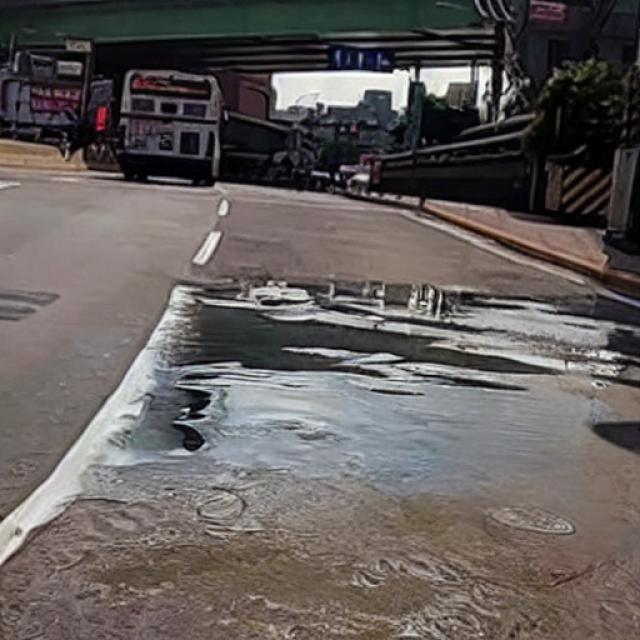puddle: (80, 278, 616, 504)
